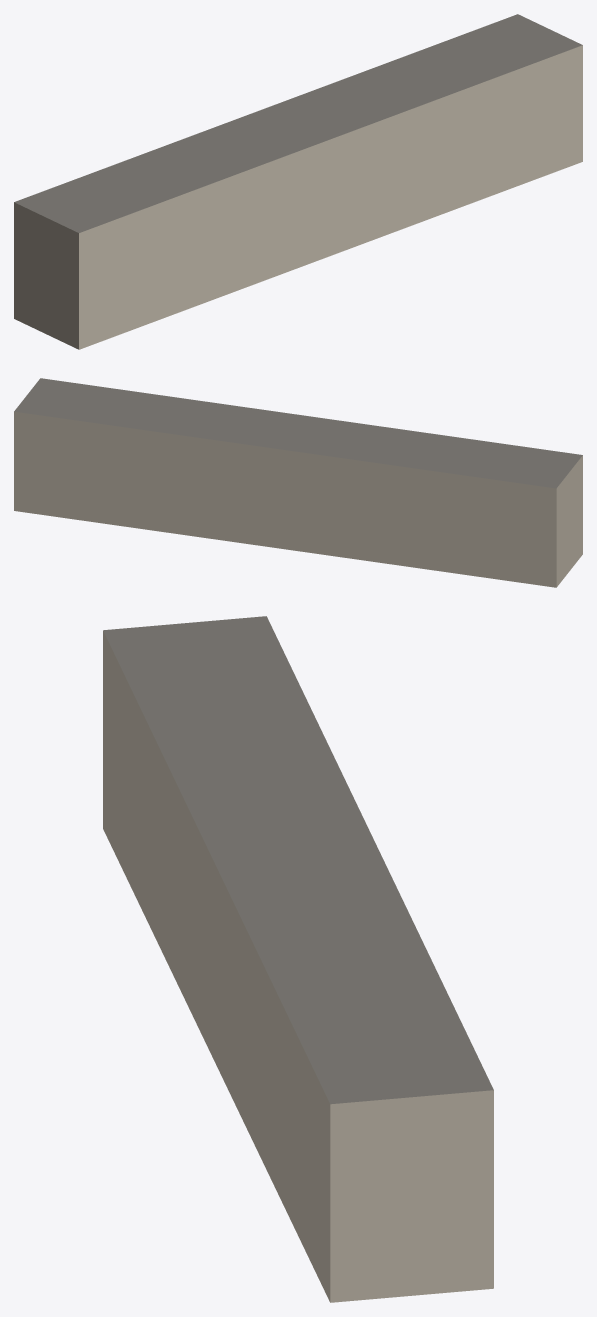
The picture shows the model from 3 angles, top to bottom: view 1: azimuth 30°, elevation 25°; view 2: azimuth 150°, elevation 25°; view 3: azimuth 270°, elevation 25°; orthographic projection. The views are drawn at different scales.
Parts seen in each view (by area): view 1: HP-w859457388; view 2: HP-w859457388; view 3: HP-w859457388.
Part boxes in pixels (<box>): HP-w859457388: <box>14,14,582,349</box>; HP-w859457388: <box>14,378,582,587</box>; HP-w859457388: <box>103,616,493,1302</box>.
Bounding box in the file's own units: 94.89 × 18 × 32.12.
